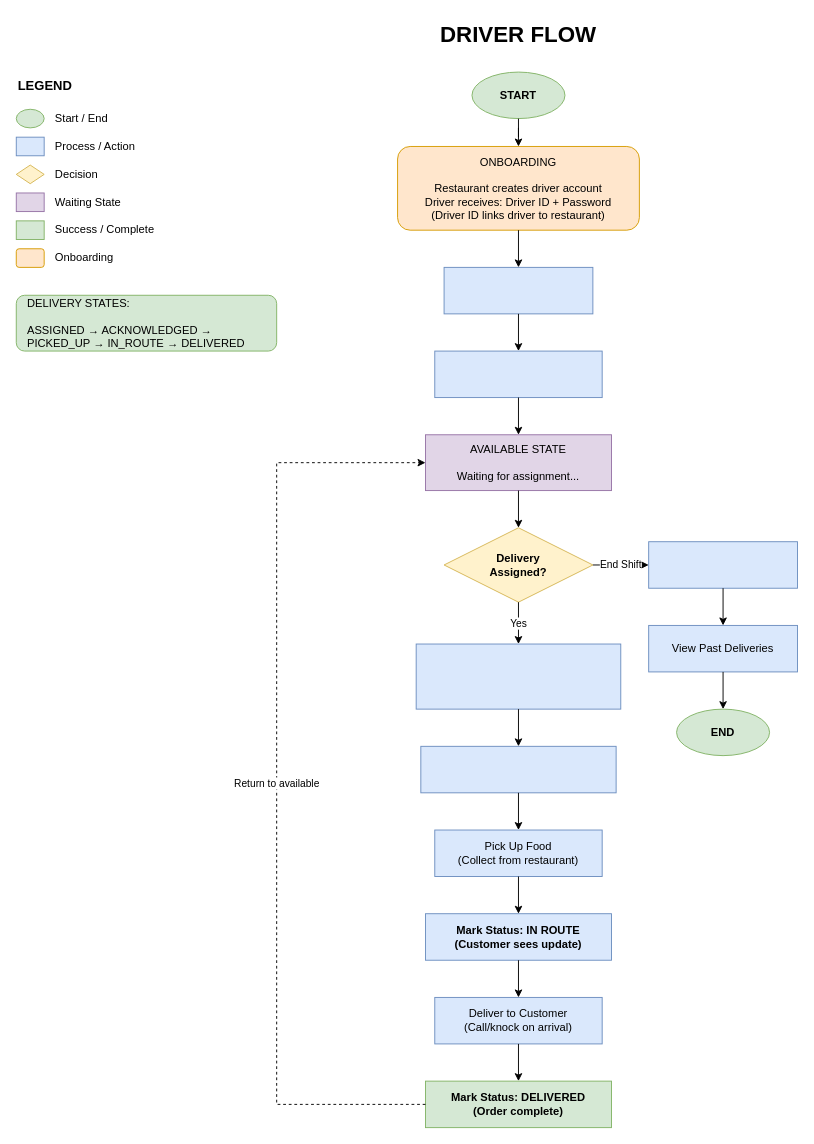
Image size: 814x1144. Some labels were removed from this diagram. Each missing label, with the centre of its shape:
"Acknowledge Assignment (Confirm driver has seen it)" goes at (518,769).
"Login (Driver ID + Password)" goes at (518,290).
"Sign In for Shift (Mark self as available)" goes at (518,374).
"Sign Out from Shift (No longer available)" goes at (722,564).
"View Delivery Assignment - Order details - Pickup location - Delivery address" goes at (518,676).
